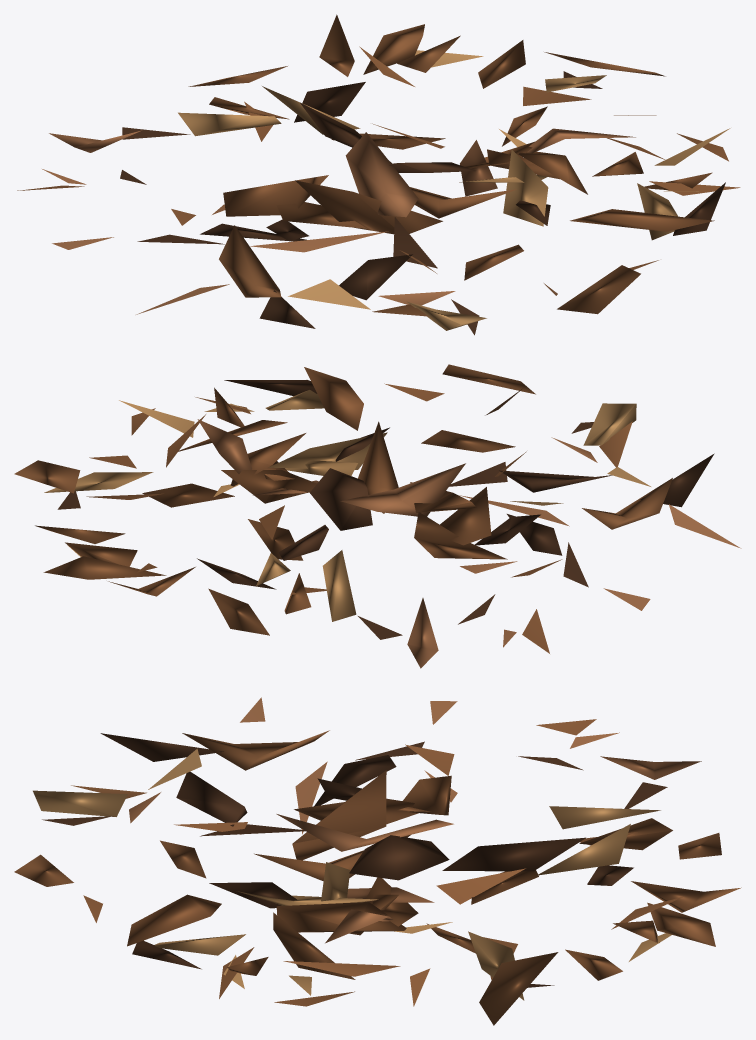
File: canopy_gc_bark_bits_c_lod2.glb
3 renders of one model, top to bottom at view 1: azimuth 30°, elevation 25°; view 2: azimuth 150°, elevation 25°; view 3: azimuth 270°, elevation 25°, orthographic. The views are drawn at different scales.
Visible parts, largest first — view 1: canopy_gc_bark_bits_c.001; view 2: canopy_gc_bark_bits_c.001; view 3: canopy_gc_bark_bits_c.001.
Boxes of the visible parts, box(x1,y1,x2,y2) form: canopy_gc_bark_bits_c.001: box(17, 14, 740, 335); canopy_gc_bark_bits_c.001: box(14, 364, 741, 668); canopy_gc_bark_bits_c.001: box(14, 697, 741, 1025).
Size of the model in its own units: 7.79 by 0.4958 by 7.26.
